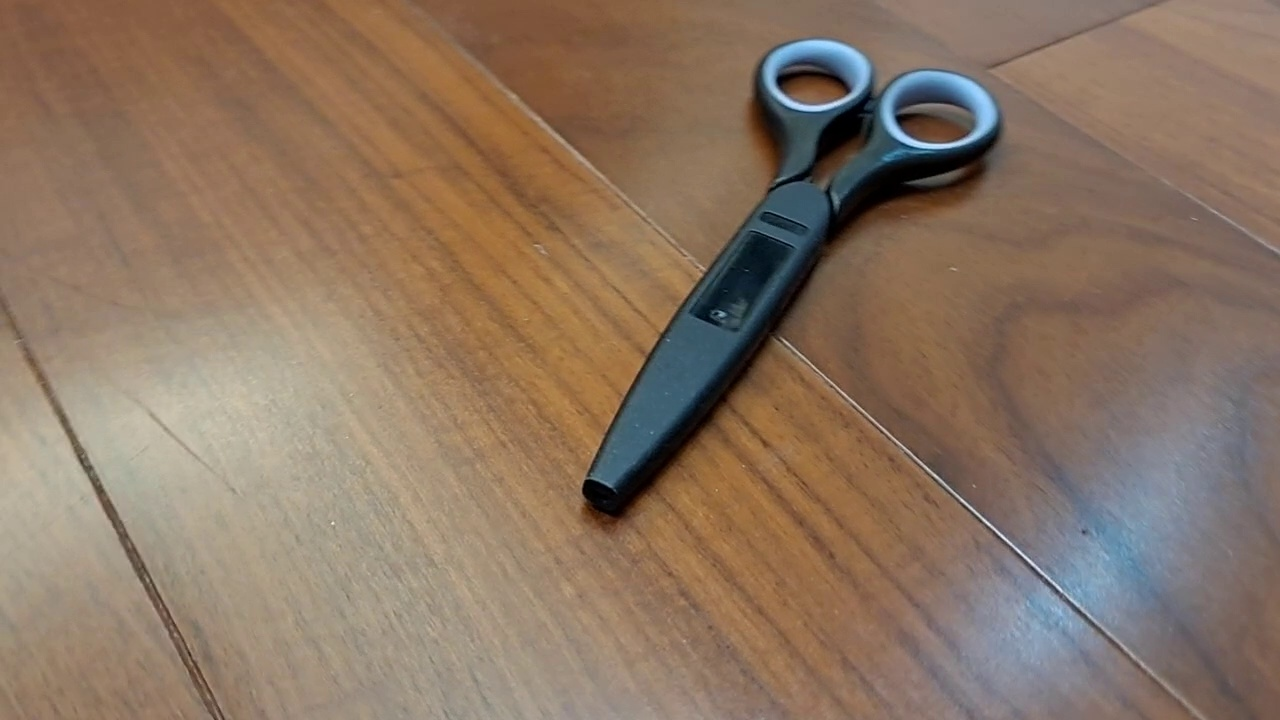scissors: (580, 35, 1003, 520)
